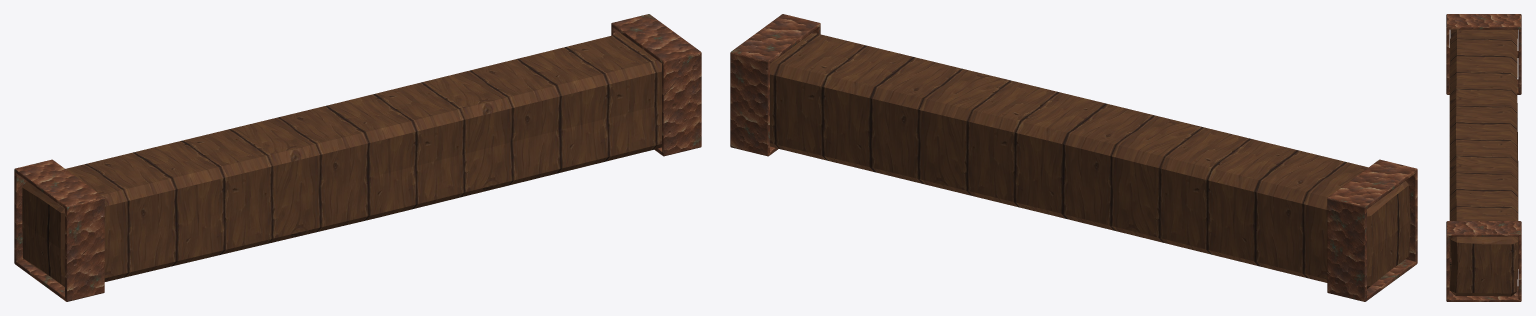
The model's file is beam__cut_stone.glb.
The picture shows the model from 3 angles, left to right: view 1: azimuth 30°, elevation 25°; view 2: azimuth 150°, elevation 25°; view 3: azimuth 270°, elevation 25°; orthographic projection. The views are drawn at different scales.
Visible parts, largest first — view 1: model; view 2: model; view 3: model.
Part boxes in pixels (bbox=[...]): model: bbox=[14, 14, 701, 301]; model: bbox=[730, 14, 1417, 301]; model: bbox=[1446, 14, 1521, 301].
Size of the model in its own units: 1.98 by 0.286 by 0.286.
3 materials, 3 textured.
